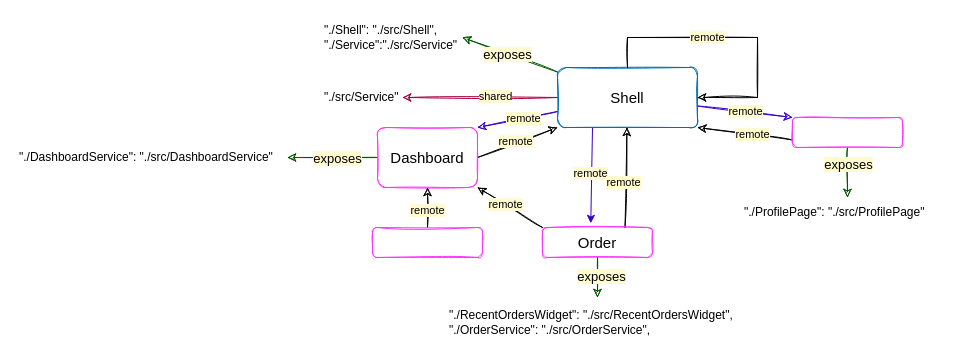
Some shapes in this 969 by 364 pixel diagram are drawn without their labels. The shapes that lost their labels are listed below. From the top down, each one's box as (x1, y1, x2, y2) in pixels, then its label:
(792, 116, 902, 148): Profile
(372, 226, 482, 258): Sales
